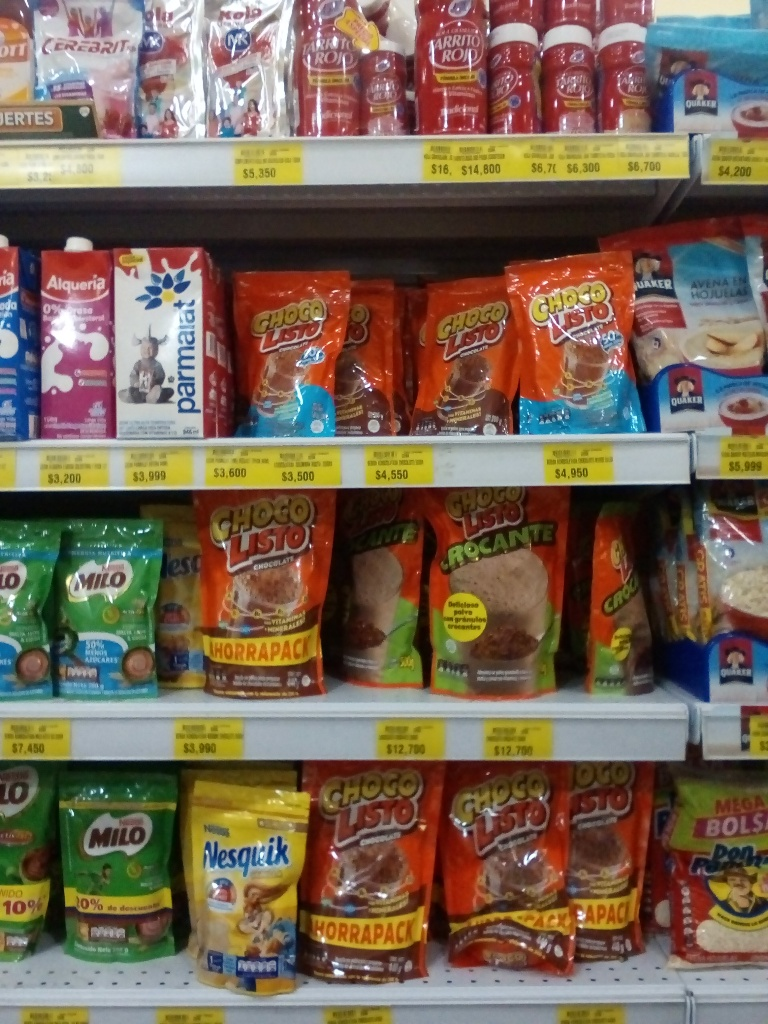COL0170102DYP25000: (555, 482, 674, 703)
COL0170102DYP50000: (322, 483, 431, 704)
COL0170103DYP20000: (336, 276, 400, 438)
COL0170103DYP44000: (200, 491, 320, 696)
COL0170104DYP20000: (213, 260, 337, 439)
COL0170205DYP20000: (3, 517, 62, 699)
COL0170303DYP20000: (147, 505, 209, 704)
COL0170306DYP20000: (180, 767, 298, 989)
